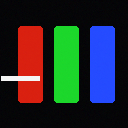3 line_h: (1, 76, 39, 80)
